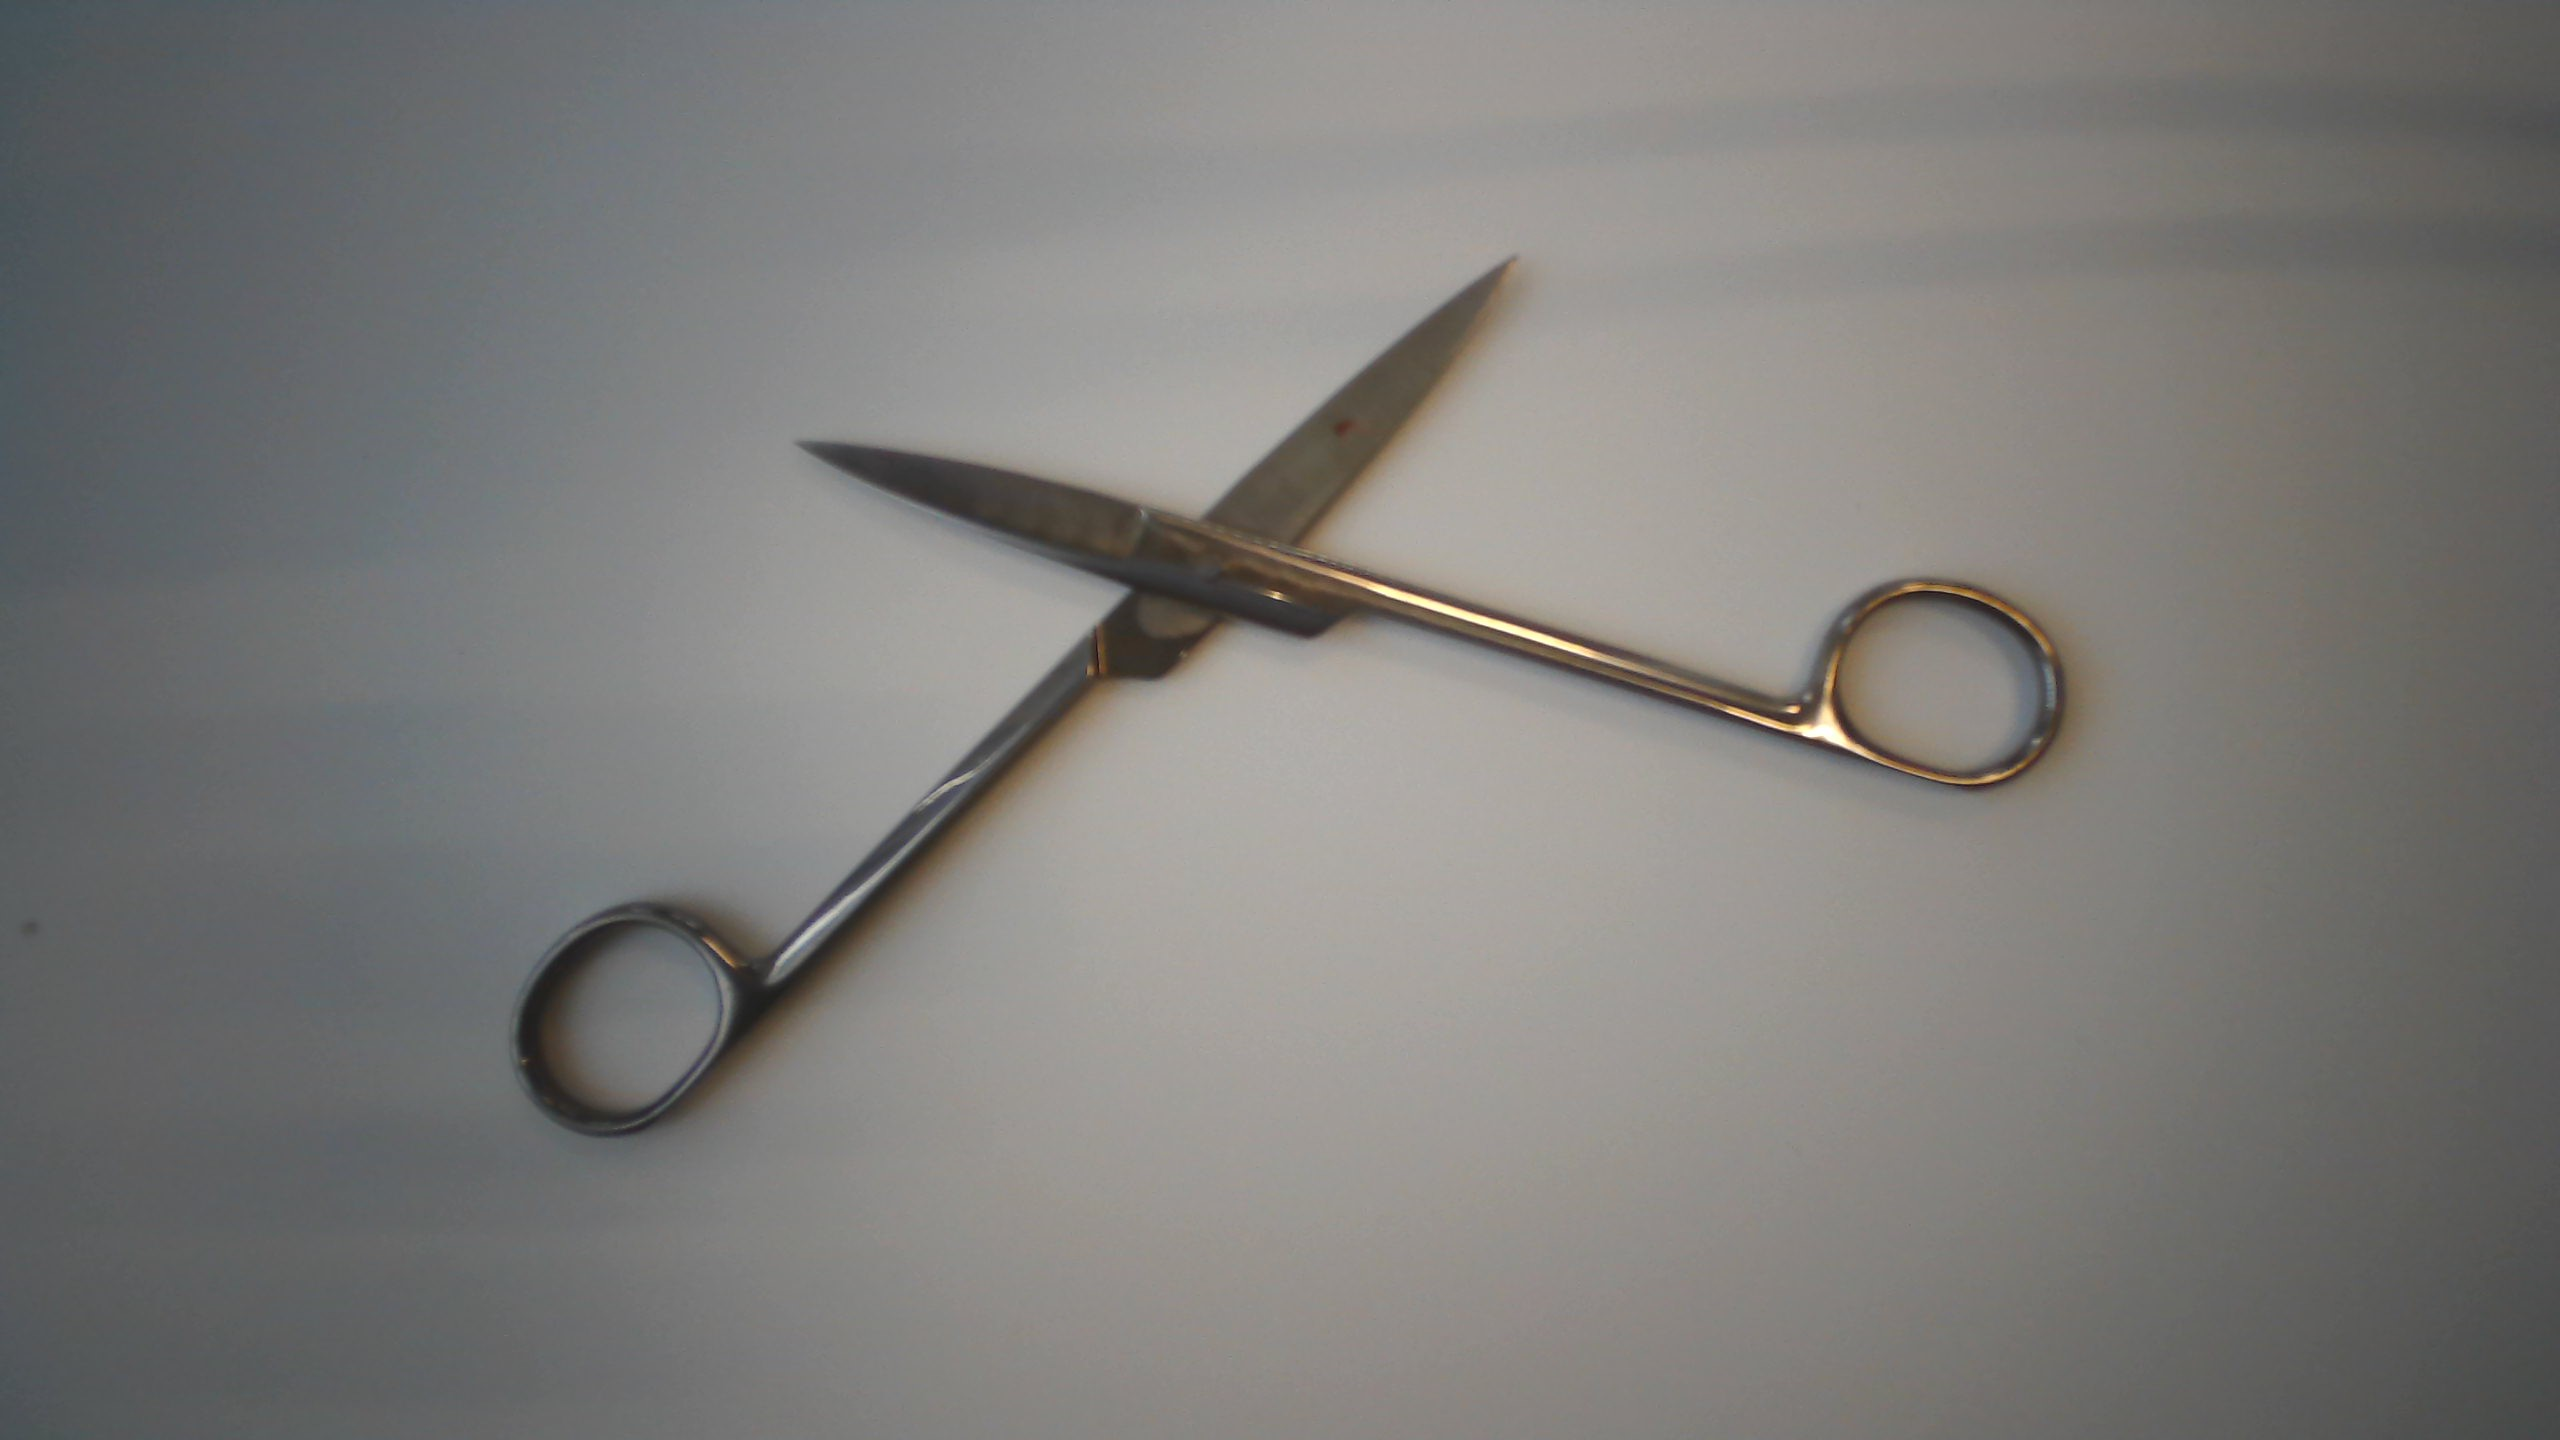Stain: (1327, 408, 1373, 441)
